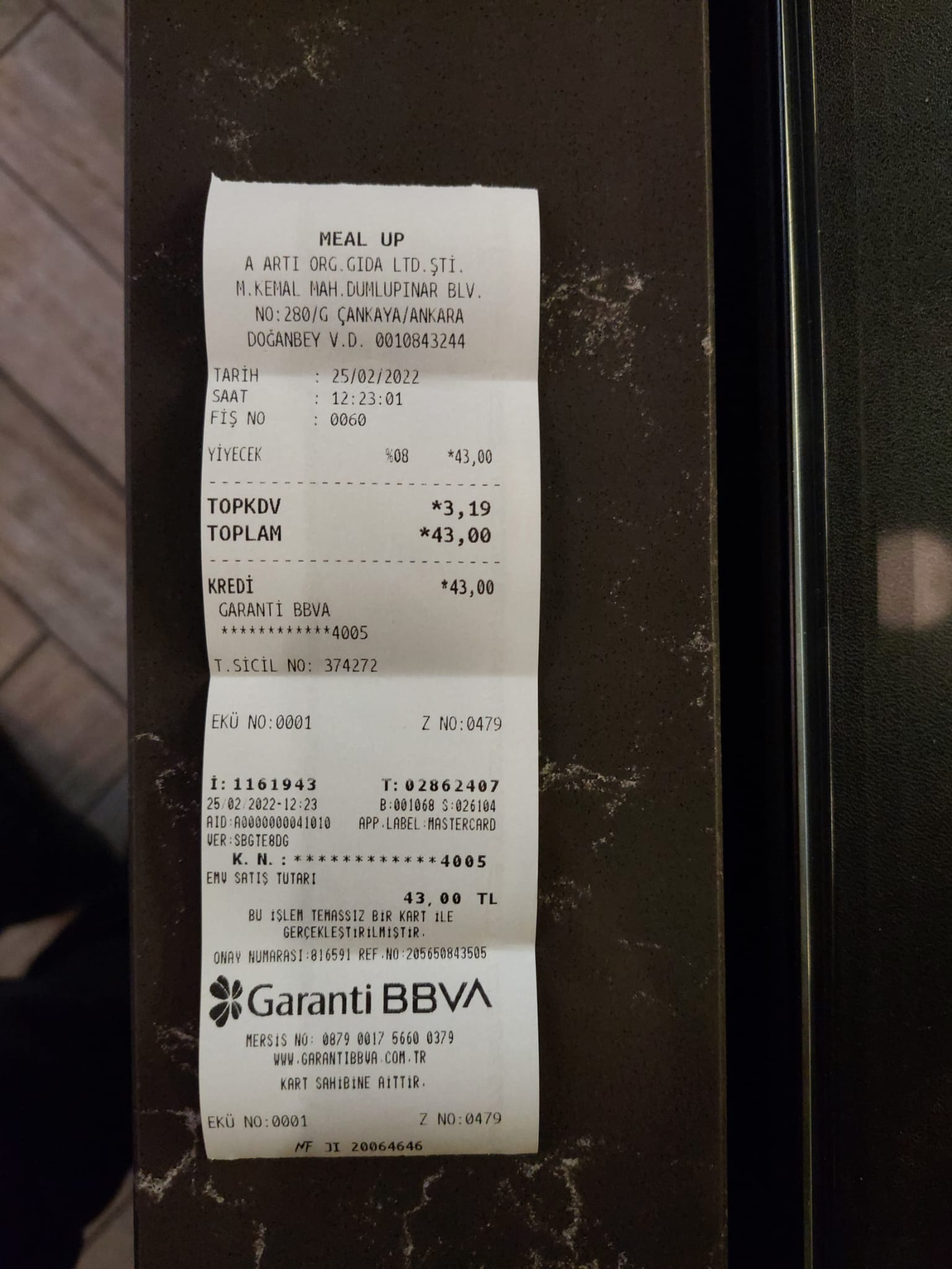date: (328, 362, 422, 390)
price: (431, 520, 498, 553)
workplace: (228, 227, 484, 330)
